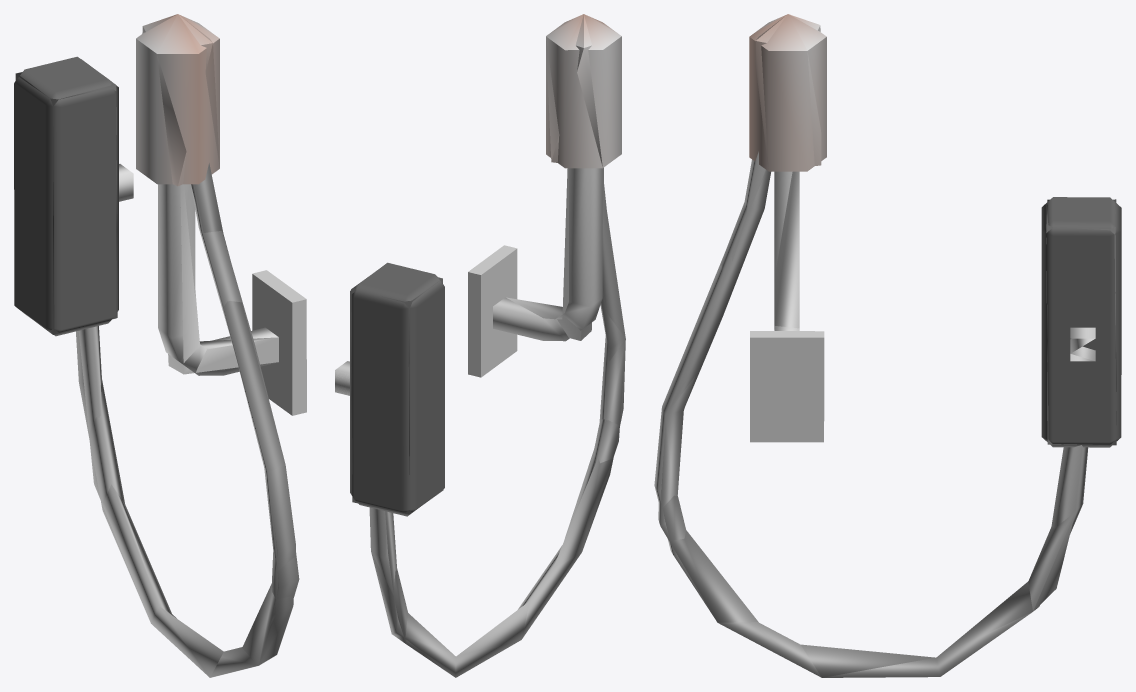
File: electrical_houseattach.dae
3 views of the same model, side by side, from view 1: azimuth 30°, elevation 25°; view 2: azimuth 150°, elevation 25°; view 3: azimuth 270°, elevation 25° (orthographic). The views are drawn at different scales.
Visible parts, largest first — view 1: electrical_houseattach_a050, electrical_houseattach_a020; view 2: electrical_houseattach_a050, electrical_houseattach_a020; view 3: electrical_houseattach_a050, electrical_houseattach_a020.
Boxes of the visible parts, x1,y1,x2,y2 form: electrical_houseattach_a050: (14, 14, 306, 677); electrical_houseattach_a020: (15, 14, 299, 677); electrical_houseattach_a050: (335, 14, 625, 677); electrical_houseattach_a020: (335, 14, 625, 677); electrical_houseattach_a050: (654, 14, 1121, 677); electrical_houseattach_a020: (658, 14, 1116, 677).
Size of the model in its own units: 0.1359 by 0.4248 by 0.6406.
